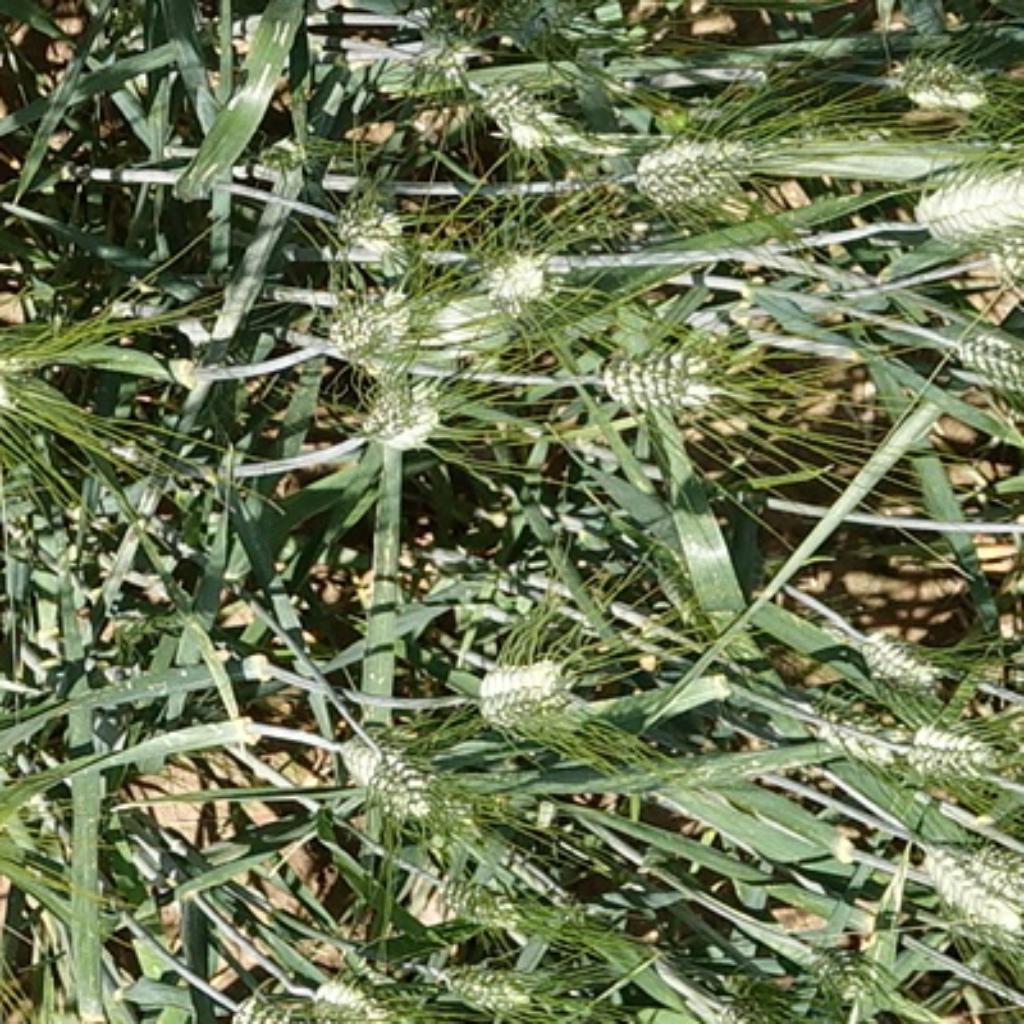0-0: (335, 711, 458, 826), (314, 271, 450, 373), (463, 637, 591, 737), (627, 120, 760, 209), (588, 341, 727, 426), (901, 153, 1018, 248), (911, 839, 1018, 942), (389, 7, 487, 106), (898, 711, 1011, 791), (430, 947, 555, 1013), (854, 622, 952, 704), (350, 366, 448, 448), (322, 179, 414, 266), (481, 67, 578, 149), (884, 48, 996, 115), (936, 320, 1024, 405), (809, 928, 898, 1011), (808, 704, 906, 773), (427, 860, 524, 929), (497, 0, 605, 61), (0, 324, 48, 453), (947, 832, 1024, 911), (471, 235, 555, 307), (308, 977, 400, 1024), (220, 986, 315, 1024)
